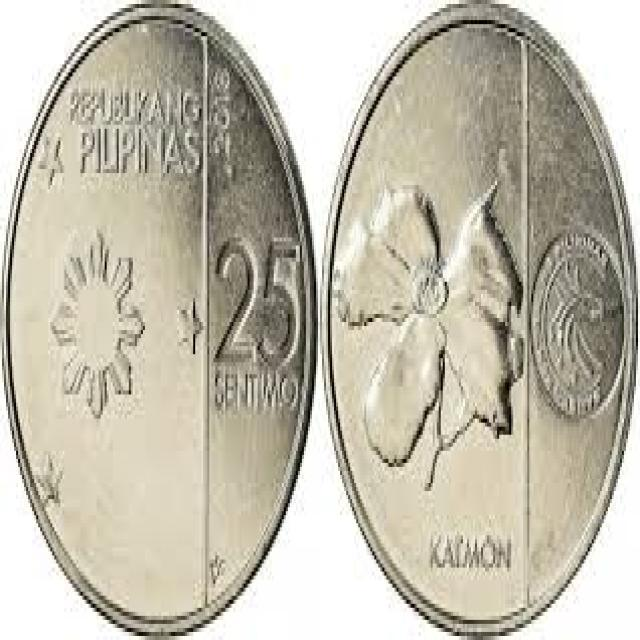25 cents: (0, 0, 320, 640), (322, 5, 638, 638)
